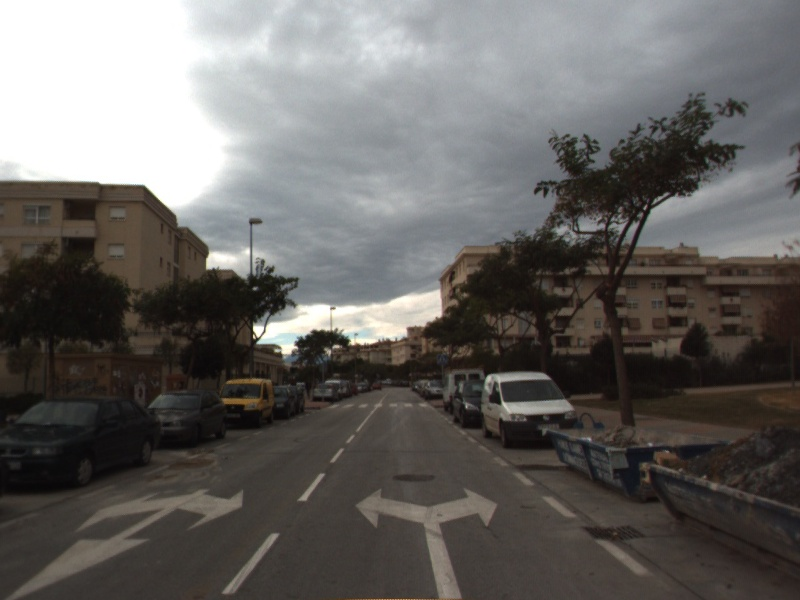LEFT_RIGHT: (351, 484, 502, 600)
